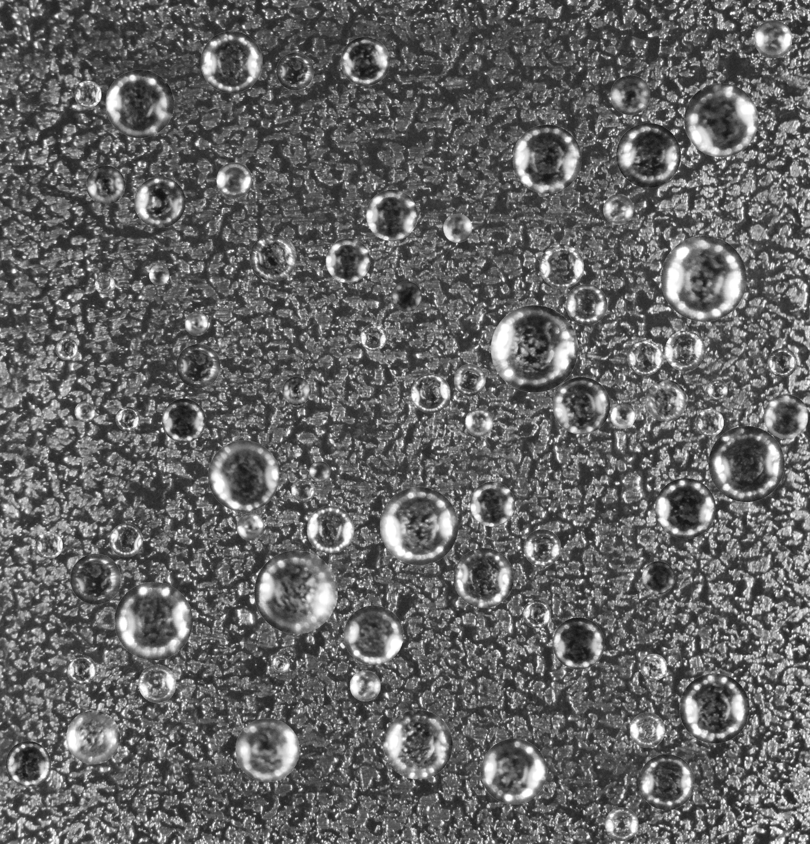Bubble: (491, 305, 578, 392), (661, 235, 746, 321), (254, 550, 337, 633), (114, 582, 192, 660), (380, 487, 458, 565), (708, 426, 784, 502), (684, 83, 758, 157), (208, 440, 279, 511), (679, 673, 749, 743), (383, 710, 452, 779), (512, 124, 581, 193), (105, 69, 173, 137), (481, 738, 546, 804), (235, 718, 299, 782), (616, 123, 680, 187), (200, 31, 262, 93), (655, 478, 715, 538), (343, 605, 403, 665), (453, 548, 513, 608), (552, 377, 610, 434), (638, 754, 694, 810), (66, 710, 119, 764), (552, 617, 604, 669), (134, 176, 185, 227), (366, 189, 417, 240), (70, 553, 120, 604), (340, 36, 389, 85), (306, 506, 354, 553), (249, 234, 296, 281), (5, 741, 50, 786), (325, 238, 370, 282), (470, 481, 514, 526), (539, 244, 583, 288), (764, 394, 808, 438), (161, 398, 205, 442), (176, 344, 220, 388), (645, 379, 686, 421), (566, 284, 607, 325), (665, 330, 705, 371), (610, 75, 650, 114), (411, 373, 450, 413), (86, 165, 125, 204), (754, 20, 792, 58), (138, 665, 176, 702), (523, 529, 561, 566), (276, 52, 313, 90), (216, 162, 252, 197), (629, 712, 665, 747), (627, 339, 662, 375), (109, 523, 142, 557), (605, 807, 638, 841), (642, 561, 675, 594), (349, 670, 380, 701), (454, 364, 485, 395), (603, 194, 633, 224), (391, 281, 421, 311), (767, 348, 797, 377), (66, 655, 96, 684), (443, 213, 472, 242), (522, 599, 551, 628), (282, 376, 310, 405), (465, 408, 493, 436), (236, 513, 264, 540), (696, 408, 723, 436), (35, 531, 62, 558), (74, 80, 101, 107), (360, 324, 387, 350), (640, 654, 667, 680), (610, 403, 635, 428), (115, 406, 139, 430), (184, 312, 208, 335), (291, 478, 314, 502), (55, 337, 77, 360), (309, 461, 330, 482), (94, 273, 115, 294), (74, 401, 94, 422), (149, 264, 169, 285), (707, 379, 727, 399), (271, 654, 289, 672), (410, 467, 421, 477)
